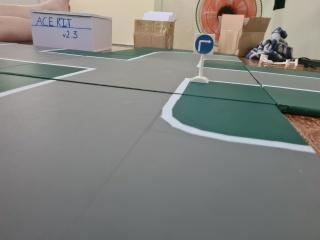right: (191, 28, 217, 57)
